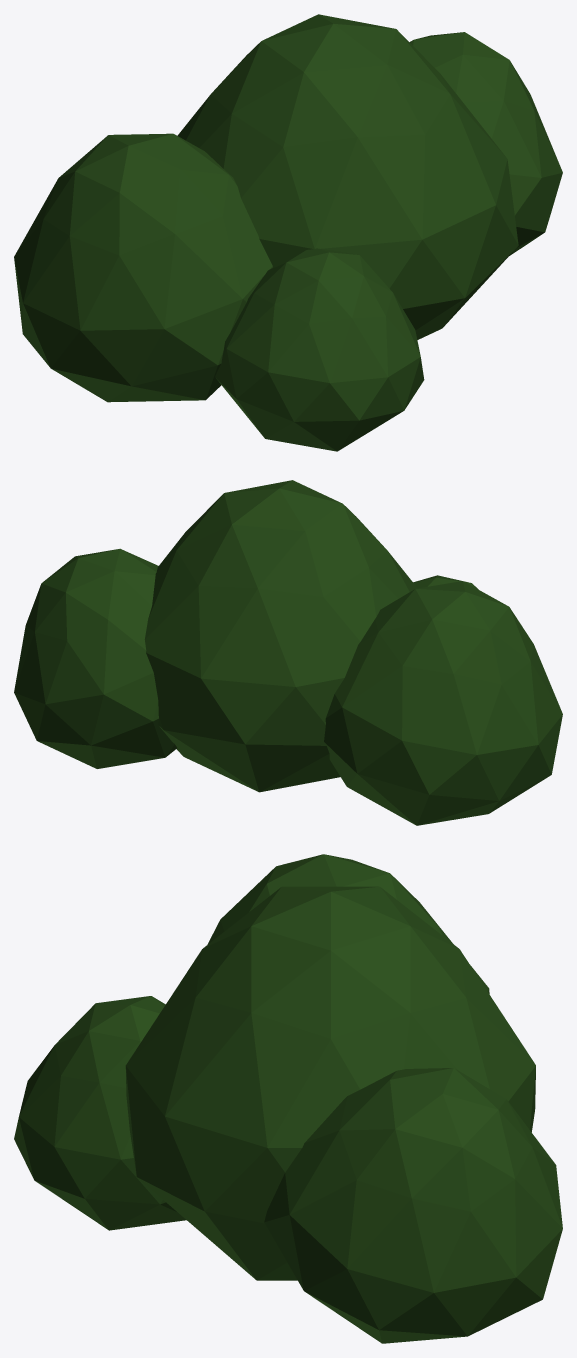
Rendered from Bush3.fbx.
3 renders of one model, top to bottom at view 1: azimuth 30°, elevation 25°; view 2: azimuth 150°, elevation 25°; view 3: azimuth 270°, elevation 25°, orthographic. The views are drawn at different scales.
Parts seen in each view (by area): view 1: Icosphere, Icosphere.001, Icosphere.003, Icosphere.002; view 2: Icosphere, Icosphere.001, Icosphere.002; view 3: Icosphere, Icosphere.002, Icosphere.003, Icosphere.001.
Part boxes in pixels (x1=…): Icosphere: x1=177, y1=14, x2=518, y2=339; Icosphere.001: x1=14, y1=133, x2=272, y2=402; Icosphere.003: x1=215, y1=248, x2=424, y2=451; Icosphere.002: x1=409, y1=32, x2=562, y2=255; Icosphere: x1=144, y1=480, x2=417, y2=792; Icosphere.001: x1=324, y1=581, x2=562, y2=825; Icosphere.002: x1=14, y1=548, x2=176, y2=768; Icosphere: x1=125, y1=886, x2=535, y2=1280; Icosphere.002: x1=264, y1=1068, x2=562, y2=1343; Icosphere.003: x1=14, y1=996, x2=186, y2=1230; Icosphere.001: x1=207, y1=854, x2=489, y2=993.
Bounding box in the file's own units: 644 × 366 × 482.
